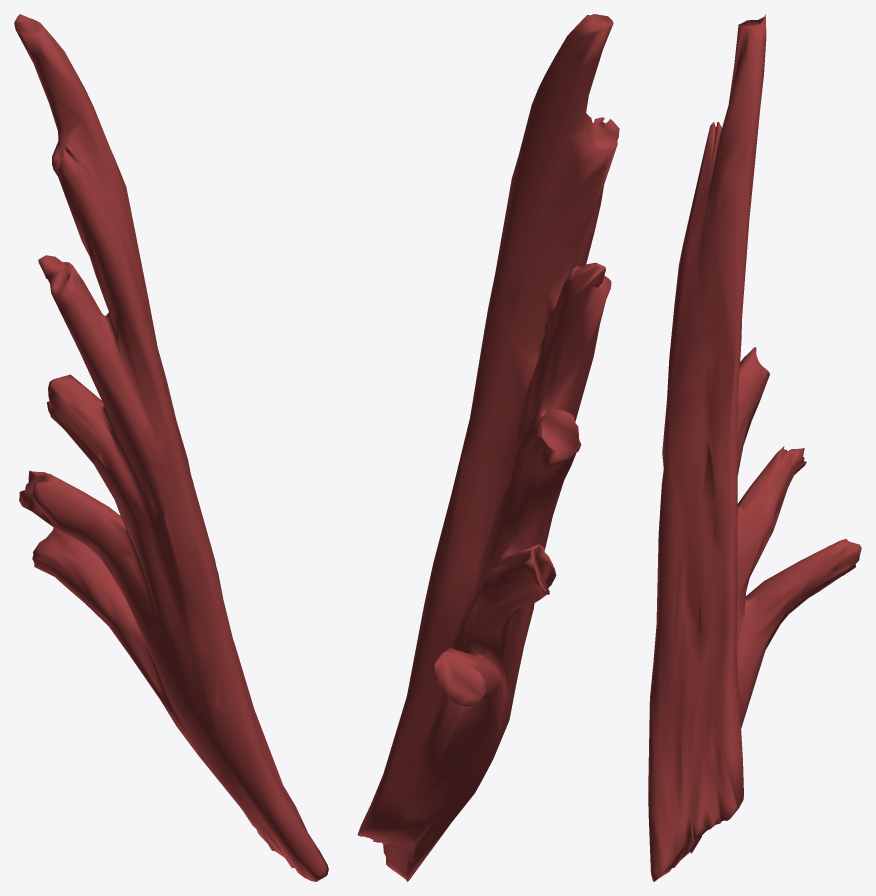
Rendered from scalenus-medius-muscle-l.glb.
The picture shows the model from 3 angles, left to right: view 1: azimuth 30°, elevation 25°; view 2: azimuth 150°, elevation 25°; view 3: azimuth 270°, elevation 25°; orthographic projection. The views are drawn at different scales.
Visible parts, largest first — view 1: Scalenus medius muscle.l; view 2: Scalenus medius muscle.l; view 3: Scalenus medius muscle.l.
Part boxes in pixels (x1,y1,x2,y2): Scalenus medius muscle.l: (14,14,328,881); Scalenus medius muscle.l: (357,14,619,881); Scalenus medius muscle.l: (648,14,861,881).
Size of the model in its own units: 0.0302 by 0.0992 by 0.025.
